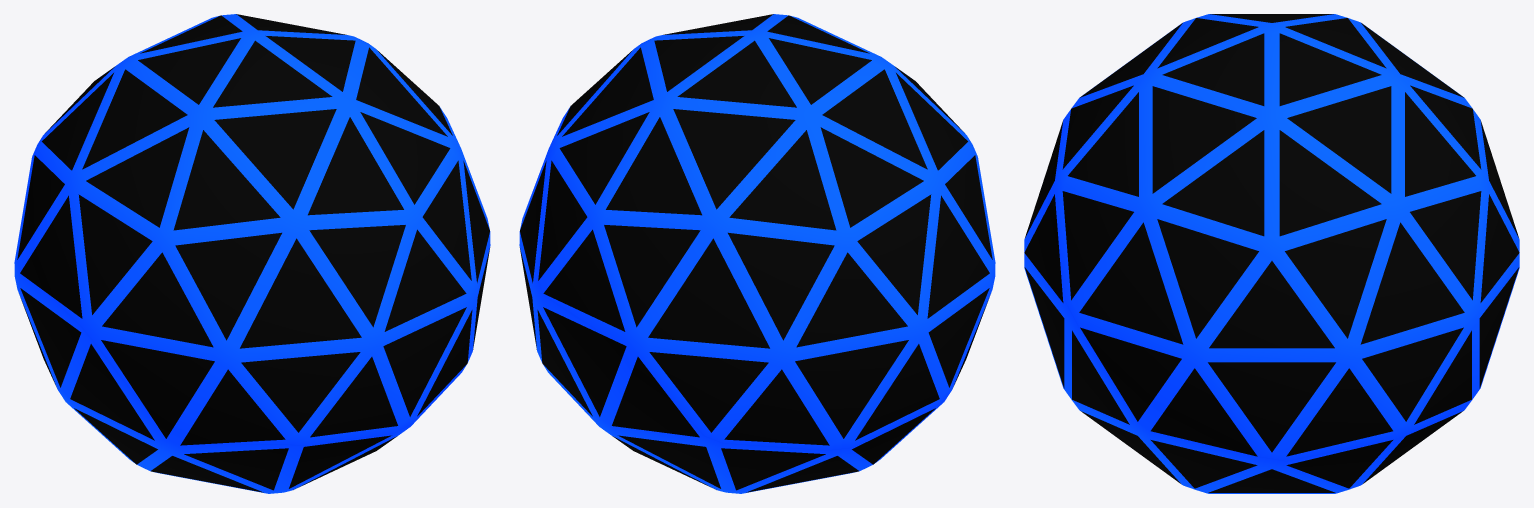
The model's file is CoreAzul.FBX.
3 views of the same model, side by side, from view 1: azimuth 30°, elevation 25°; view 2: azimuth 150°, elevation 25°; view 3: azimuth 270°, elevation 25° (orthographic). The views are drawn at different scales.
Visible parts, largest first — view 1: GeoSphere001; view 2: GeoSphere001; view 3: GeoSphere001.
Part boxes in pixels (x1,y1,x2,y2): GeoSphere001: [14, 14, 490, 493]; GeoSphere001: [519, 14, 995, 493]; GeoSphere001: [1024, 14, 1519, 493].
Bounding box in the file's own units: 9.52 × 9.86 × 9.82.
